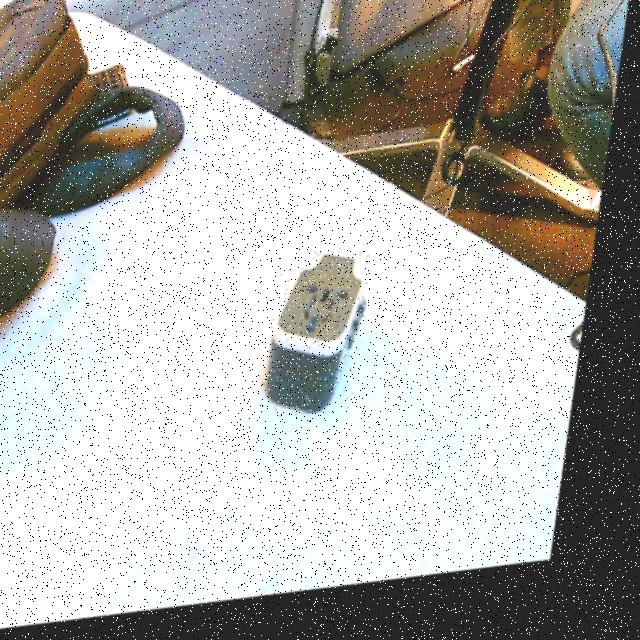adapter: (272, 253, 383, 428)
